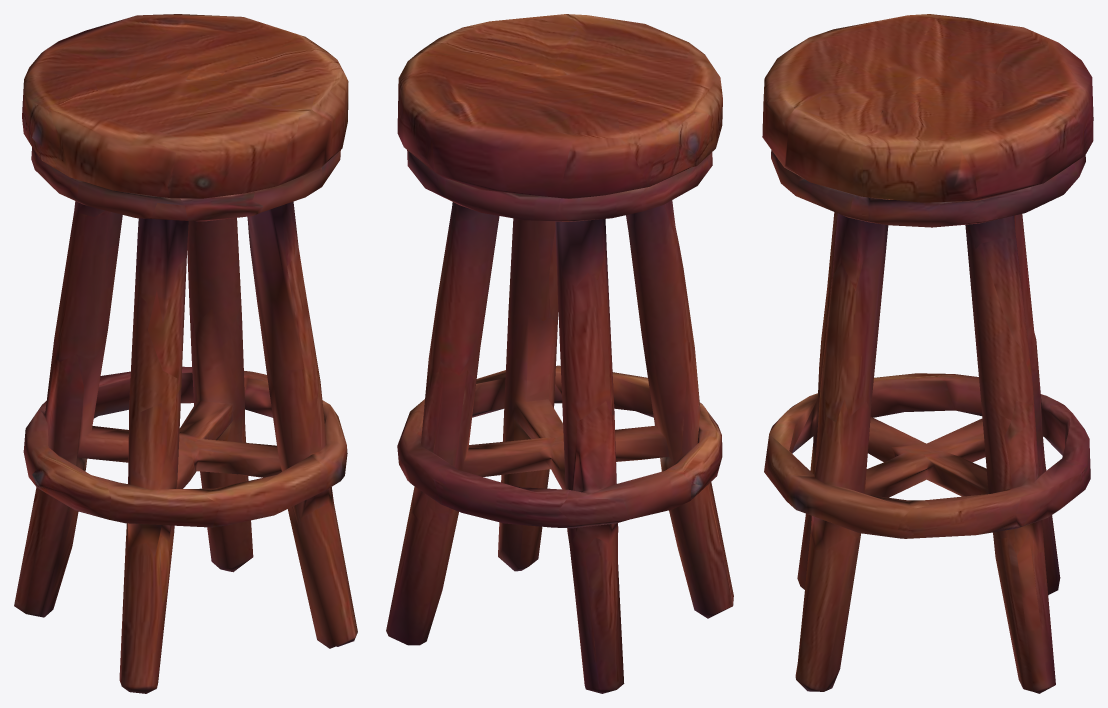
The model's file is 吧台椅.glb.
The picture shows the model from 3 angles, left to right: view 1: azimuth 30°, elevation 25°; view 2: azimuth 150°, elevation 25°; view 3: azimuth 270°, elevation 25°; orthographic projection. The views are drawn at different scales.
Parts seen in each view (by area): view 1: tripo_node_ce160981-28d6-4518-977a-52f6e9bf53b1; view 2: tripo_node_ce160981-28d6-4518-977a-52f6e9bf53b1; view 3: tripo_node_ce160981-28d6-4518-977a-52f6e9bf53b1.
Boxes of the visible parts, bbox=[...] form: tripo_node_ce160981-28d6-4518-977a-52f6e9bf53b1: bbox=[14, 14, 357, 693]; tripo_node_ce160981-28d6-4518-977a-52f6e9bf53b1: bbox=[386, 14, 733, 693]; tripo_node_ce160981-28d6-4518-977a-52f6e9bf53b1: bbox=[762, 14, 1093, 693].
Size of the model in its own units: 0.5444 by 1 by 0.5306.
1 material, 1 textured.
